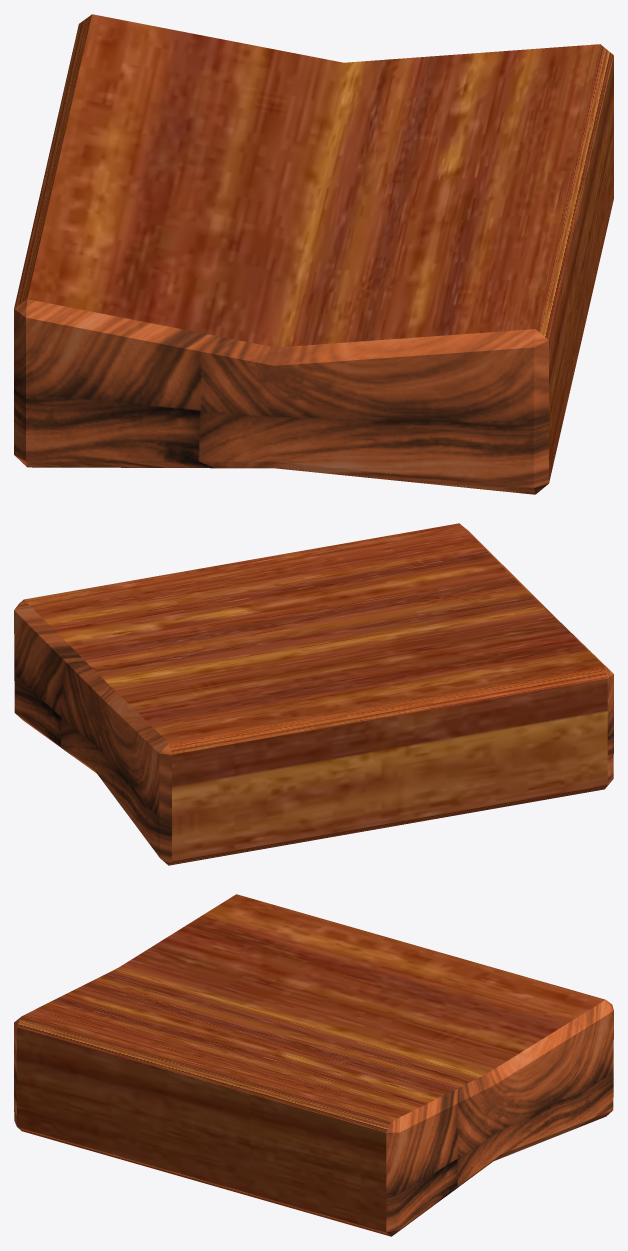
Rendered from yuandeng_D_saizi_05.FBX.
3 renders of one model, top to bottom at view 1: azimuth 30°, elevation 25°; view 2: azimuth 150°, elevation 25°; view 3: azimuth 270°, elevation 25°, orthographic. The views are drawn at different scales.
Parts seen in each view (by area): view 1: yuandeng_D_saizi_05; view 2: yuandeng_D_saizi_05; view 3: yuandeng_D_saizi_05.
Boxes of the visible parts, bbox=[...] form: yuandeng_D_saizi_05: bbox=[14, 14, 613, 494]; yuandeng_D_saizi_05: bbox=[14, 523, 613, 865]; yuandeng_D_saizi_05: bbox=[14, 894, 613, 1236].
Size of the model in its own units: 3.58 by 0.8667 by 3.81.
2 materials, 2 textured.
